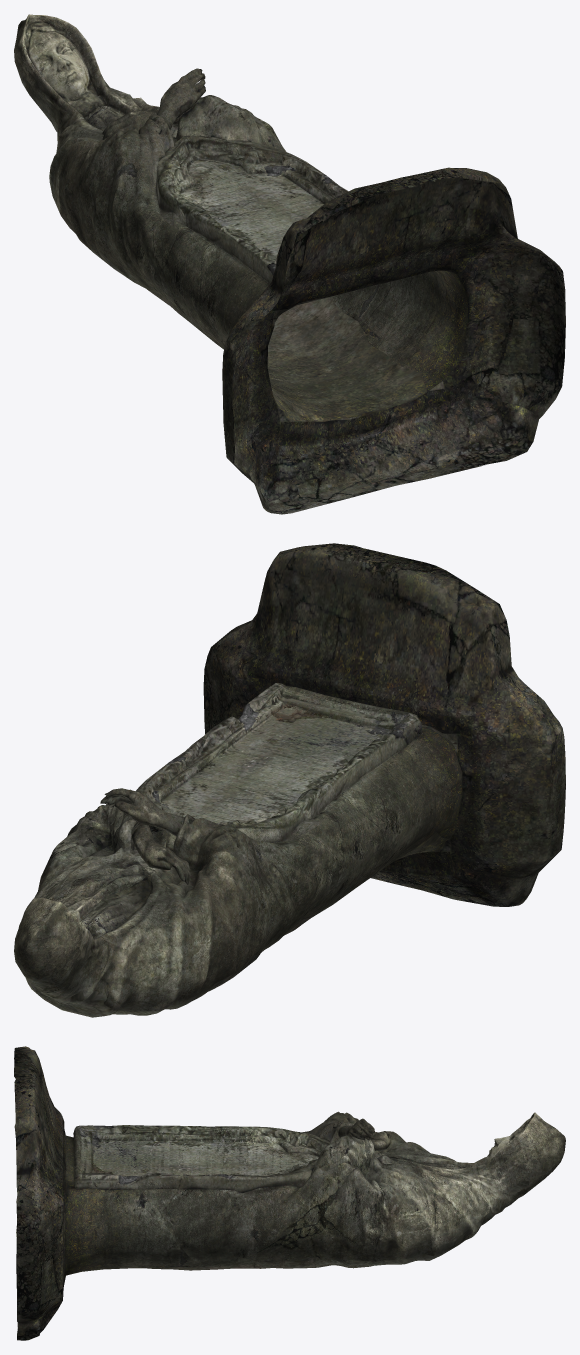
The model's file is statue.dae.
3 views of the same model, one above another, from view 1: azimuth 30°, elevation 25°; view 2: azimuth 150°, elevation 25°; view 3: azimuth 270°, elevation 25° (orthographic). The views are drawn at different scales.
Visible parts, largest first — view 1: mesh[0].001; view 2: mesh[0].001; view 3: mesh[0].001.
Boxes of the visible parts, x1,y1,x2,y2 form: mesh[0].001: (14,14,565,514); mesh[0].001: (14,543,565,1017); mesh[0].001: (14,1046,565,1340).
Bounding box in the file's own units: 1.68 × 3.16 × 1.44.
